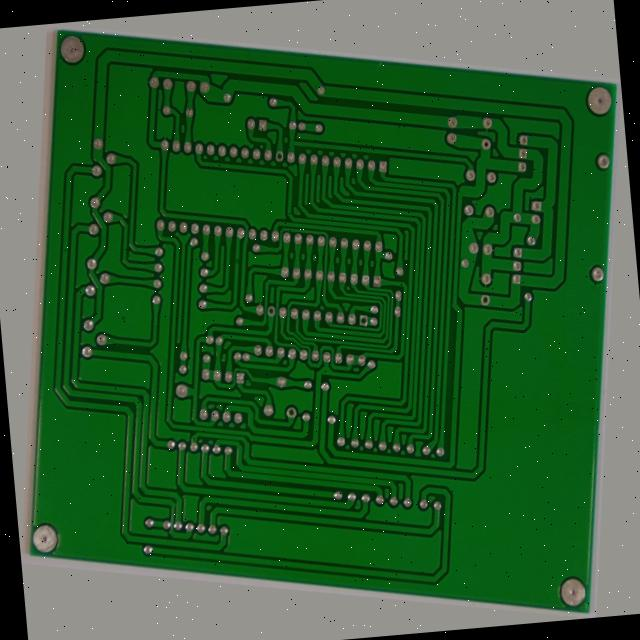missing_hole: (356, 299, 374, 320), (486, 253, 504, 271), (294, 425, 310, 443), (241, 127, 256, 145), (256, 310, 270, 327)
